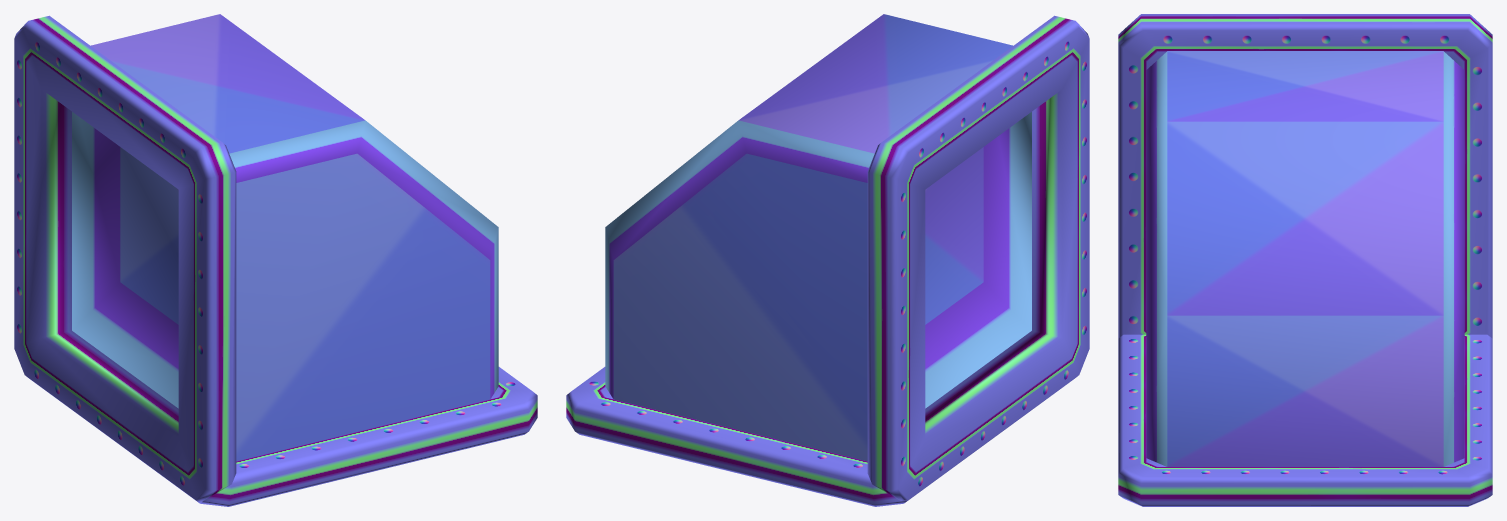
The model's file is sm_ventilation_02.fbx.
3 renders of one model, left to right at view 1: azimuth 30°, elevation 25°; view 2: azimuth 150°, elevation 25°; view 3: azimuth 270°, elevation 25°, orthographic. The views are drawn at different scales.
Parts seen in each view (by area): view 1: sm_ventilation_02; view 2: sm_ventilation_02; view 3: sm_ventilation_02.
Part boxes in pixels (x1,y1,x2,y2): sm_ventilation_02: (14, 14, 537, 506); sm_ventilation_02: (566, 14, 1089, 506); sm_ventilation_02: (1118, 14, 1492, 506).
Size of the model in its own units: 176 by 176 by 176.
Materials: 1 (1 with a texture image).
